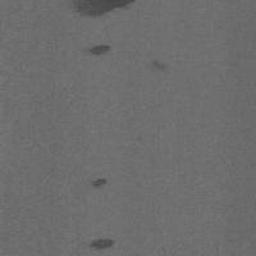Oil spot: (64, 0, 138, 19), (142, 58, 173, 78), (87, 237, 118, 252), (82, 44, 111, 58), (90, 177, 109, 189)
